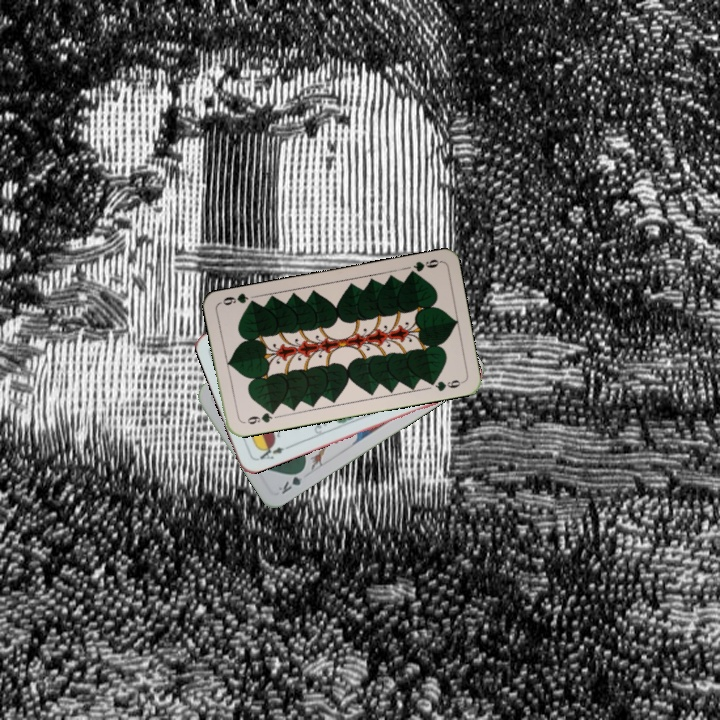EA: (253, 440, 292, 463)
G9: (404, 255, 443, 279), (239, 406, 279, 427)
GK: (274, 465, 307, 497)
